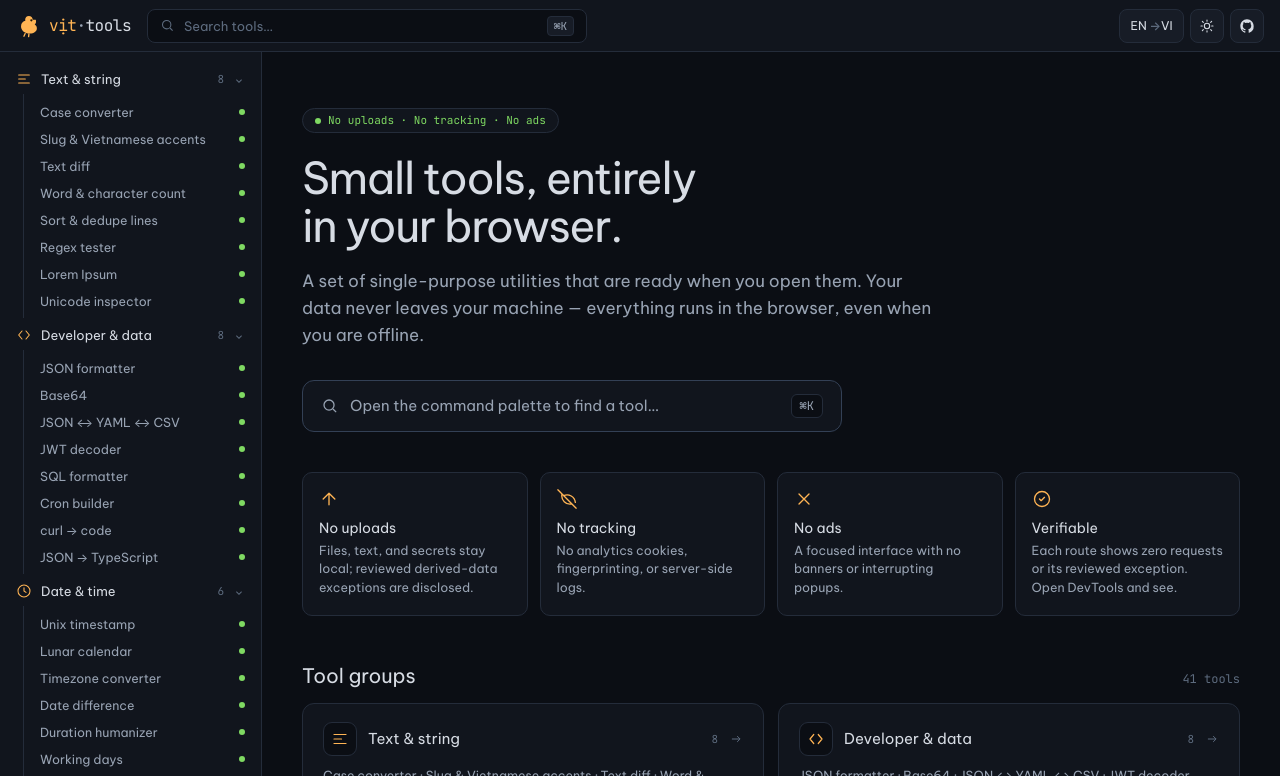
Test: tool platform shell › routes a ready sidebar item to its own tool instead of Photo Cure
Click the button "Case converter" at (142, 112), box [32, 98, 253, 125]
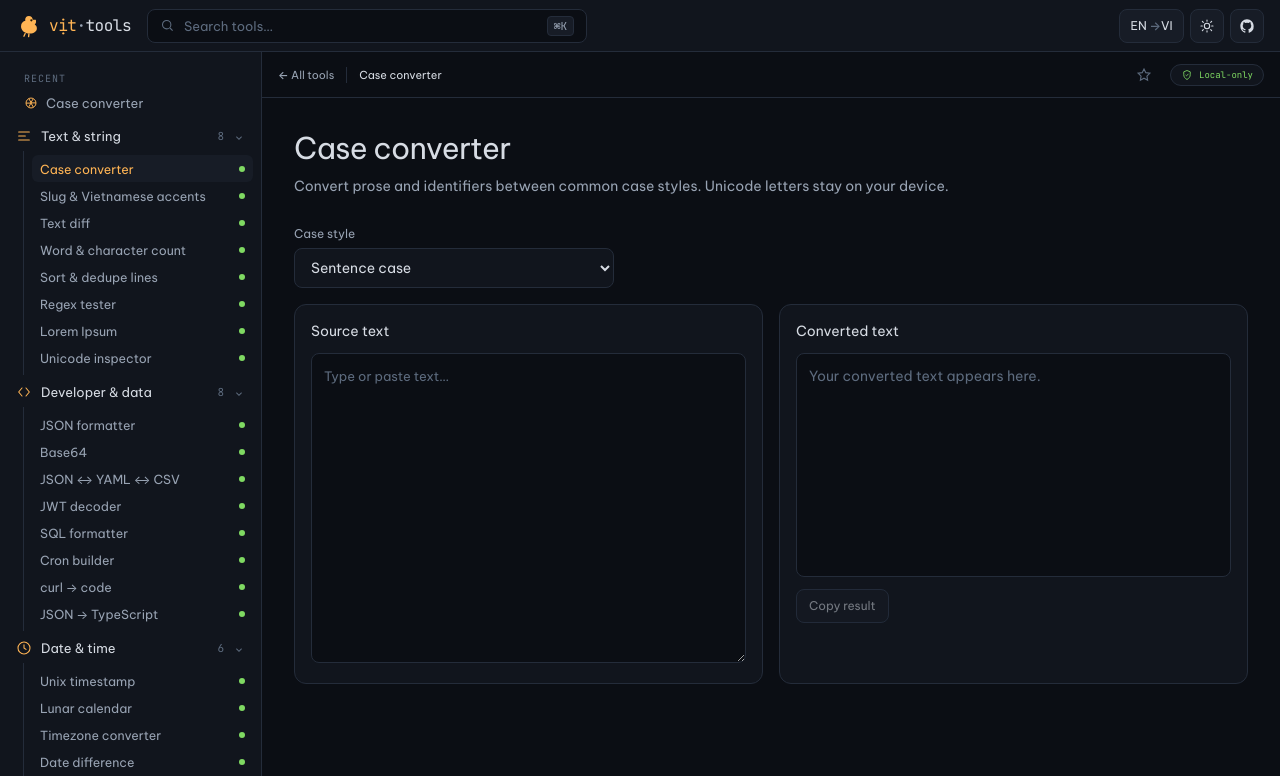
Expected: the heading "Case converter" is shown, [294, 129, 510, 167]
